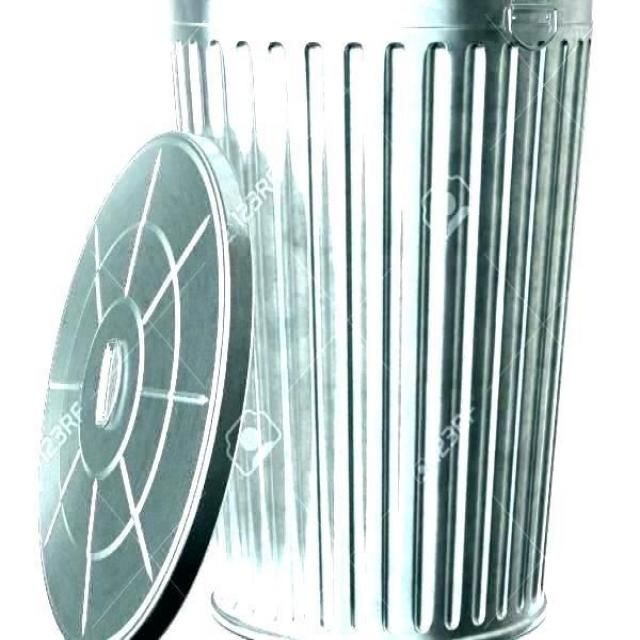metel: (47, 1, 601, 640)
